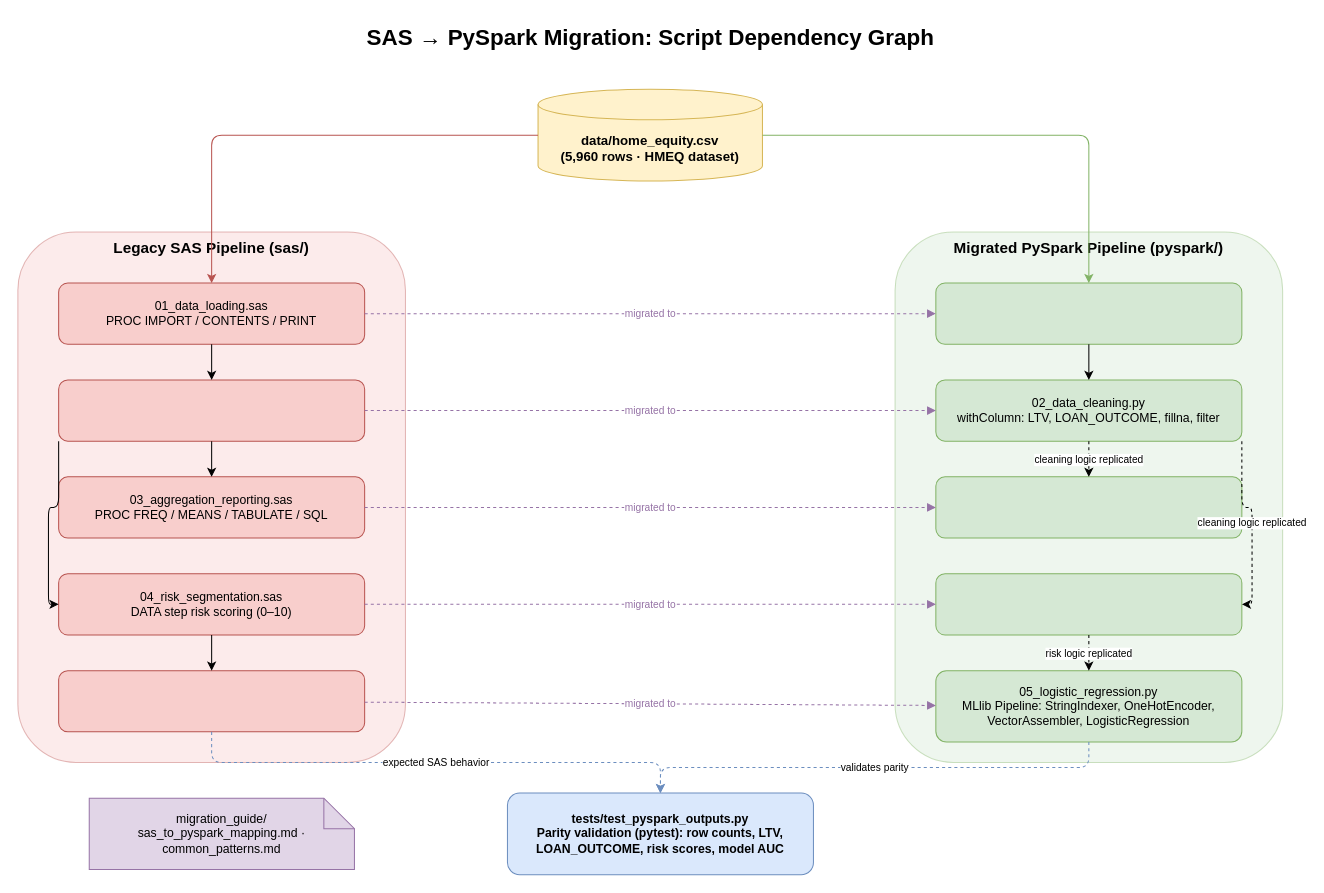
Image size: 1324x893. Some labels were removed from this diagram. The centre of each missing label's shape, as x and y in pixels:
"01_data_loading.py spark.read.csv / printSchema / show" goes at (x=1088, y=313).
"02_data_cleaning.sas DATA steps: LTV, LOAN_OUTCOME, impute, filter" goes at (x=211, y=410).
"03_aggregation_reporting.py groupBy / agg / Spark SQL" goes at (x=1088, y=507).
"04_risk_segmentation.py when/otherwise risk scoring (0–10)" goes at (x=1088, y=604).
"05_logistic_regression.sas PROC SURVEYSELECT / LOGISTIC" goes at (x=211, y=701).
